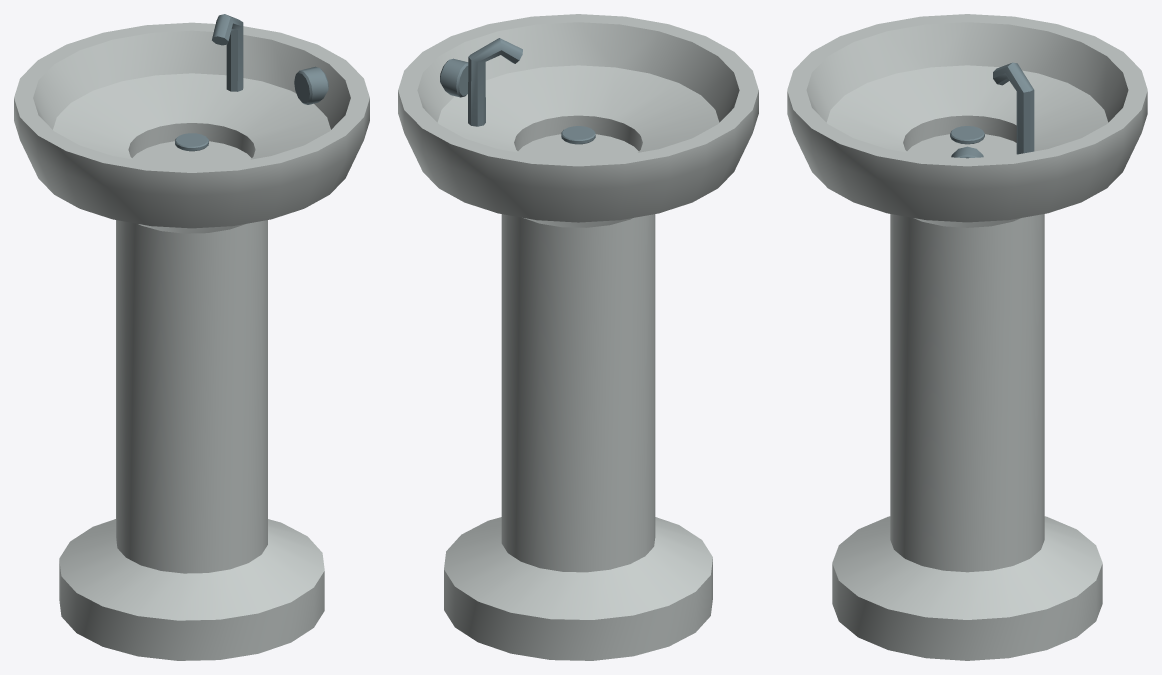
File: drinking-fountain.glb
3 renders of one model, left to right at view 1: azimuth 30°, elevation 25°; view 2: azimuth 150°, elevation 25°; view 3: azimuth 270°, elevation 25°, orthographic.
Visible parts, largest first — view 1: pedestal, drinking_basin, bubbler, button, drain; view 2: pedestal, drinking_basin, bubbler, button, drain; view 3: pedestal, drinking_basin, bubbler, drain.
Part boxes in pixels (x1=…): pedestal: x1=59, y1=141, x2=324, y2=660; drinking_basin: x1=14, y1=22, x2=369, y2=228; bubbler: x1=212, y1=14, x2=243, y2=91; button: x1=294, y1=66, x2=328, y2=104; drain: x1=175, y1=133, x2=208, y2=151; pedestal: x1=444, y1=134, x2=712, y2=660; drinking_basin: x1=398, y1=14, x2=758, y2=222; bubbler: x1=468, y1=38, x2=522, y2=126; button: x1=440, y1=58, x2=468, y2=97; drain: x1=561, y1=126, x2=595, y2=144; pedestal: x1=832, y1=134, x2=1102, y2=660; drinking_basin: x1=787, y1=14, x2=1147, y2=222; bubbler: x1=993, y1=62, x2=1034, y2=154; drain: x1=950, y1=126, x2=984, y2=144.
Bounding box in the file's own units: 0.56 × 0.974 × 0.56.
